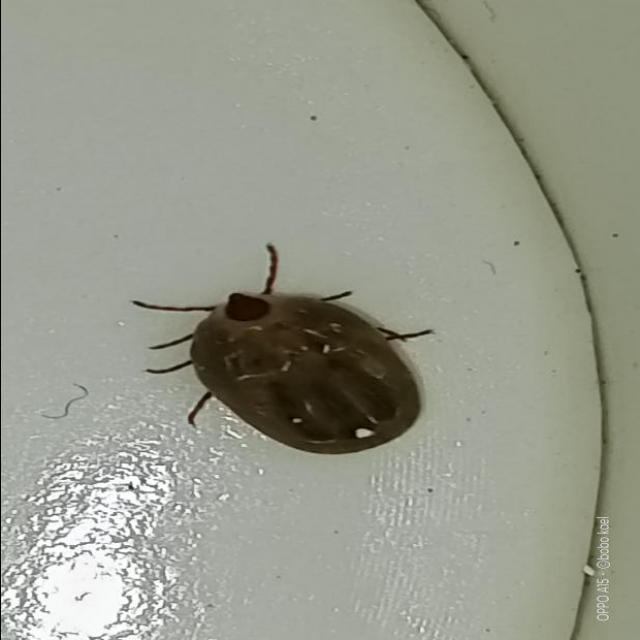Rhipicephalus Sanguineus-F-Fed: (113, 244, 425, 456)
